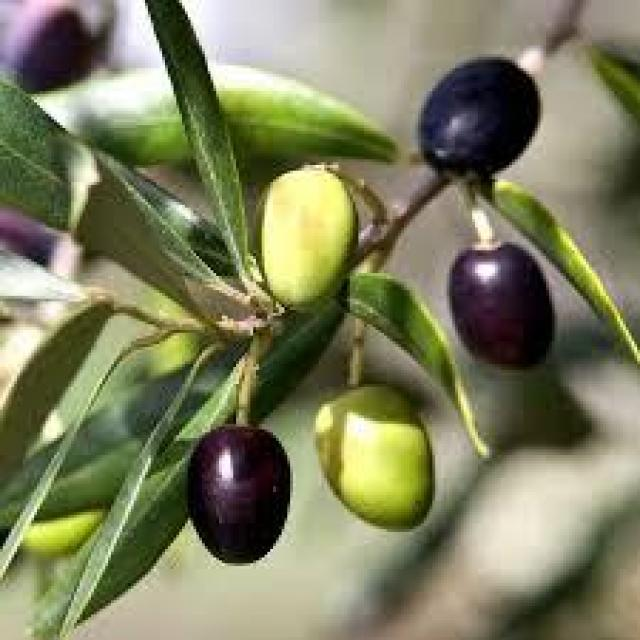Healthy: (316, 384, 432, 532), (414, 53, 543, 180), (188, 424, 294, 566), (259, 168, 356, 307), (449, 245, 556, 370)
